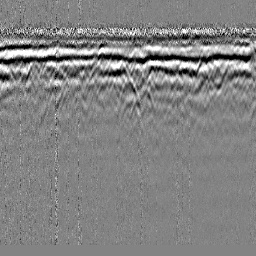cavity: (116, 75, 140, 113)
